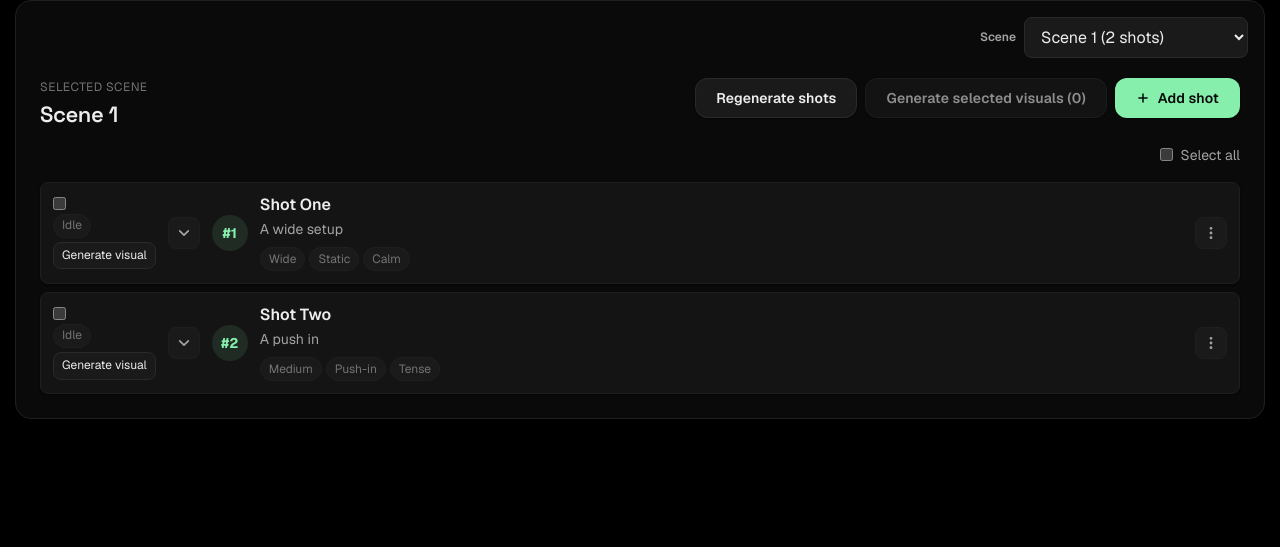
ShotsWorkspace › renders collapsed shot rows with compact tags and toggles expanded details
The width and height of the screenshot is (1280, 547).
Expected: the text "Framing" is not shown
Expected: the text "Movement" is not shown
Click the text "Shot Two" at (295, 315), box [260,304,331,325]
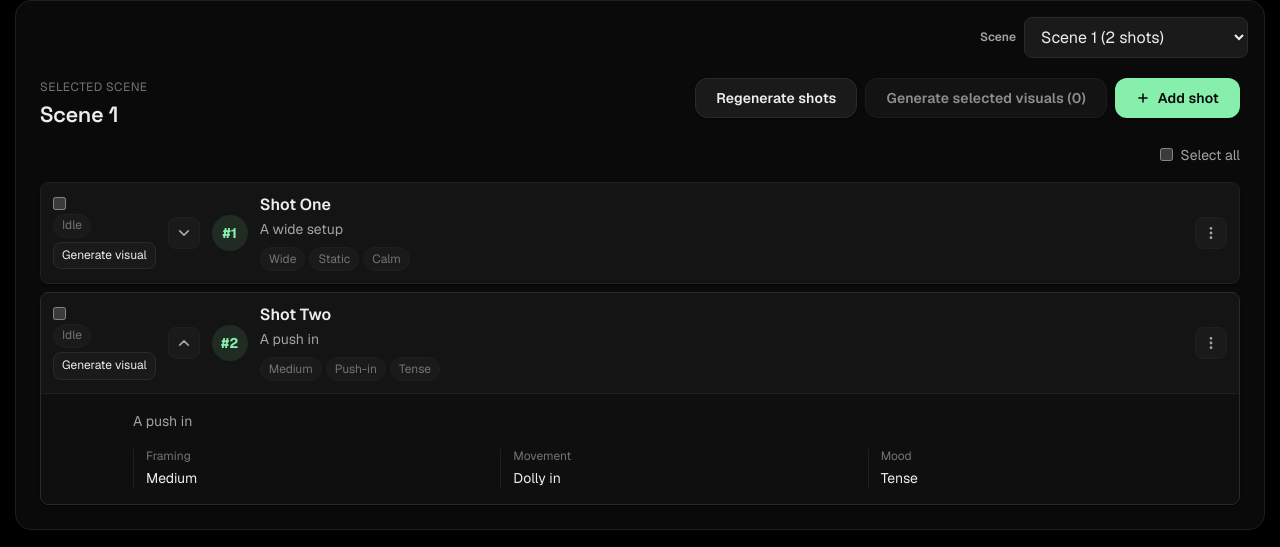
Expected: the button named "Show details for Shot Two" is expanded, [168,305,1183,381]
Expected: the text "Framing" is shown, [146,448,191,464]
Expected: the text "Movement" is shown, [513,448,571,464]
Click the text "Shot One" at (295, 204), box [260,194,331,215]
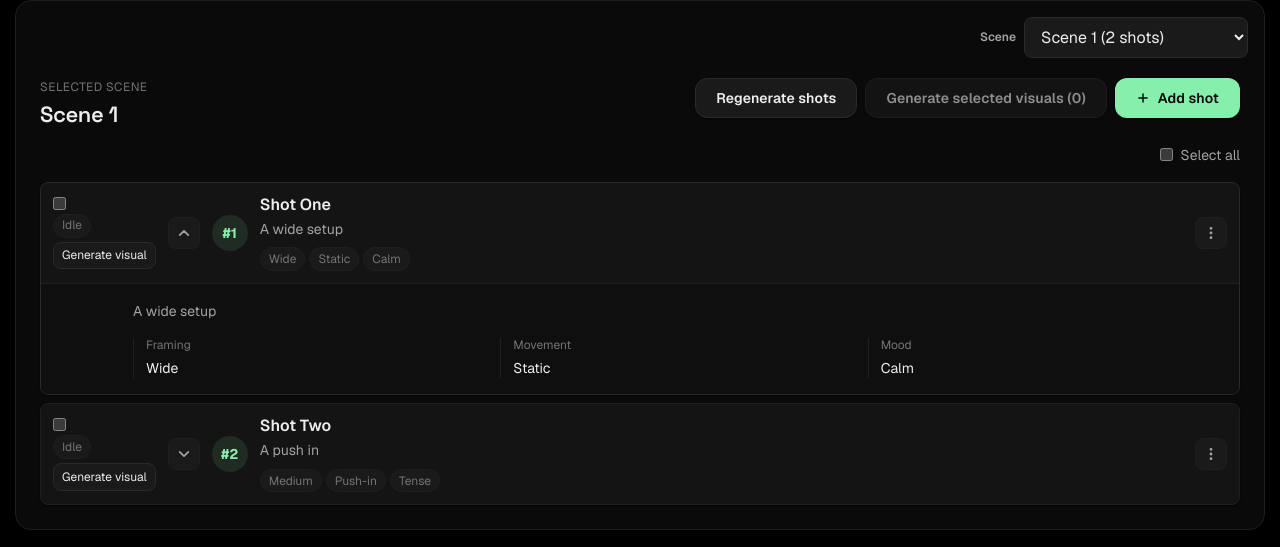
Expected: the button with aria-label "Hide details for Shot One" is expanded, [168,195,1183,271]
Expected: the button with aria-label "Show details for Shot Two" is collapsed, [168,416,1183,492]
Click the text "Shot One" at (295, 204), box [260,194,331,215]
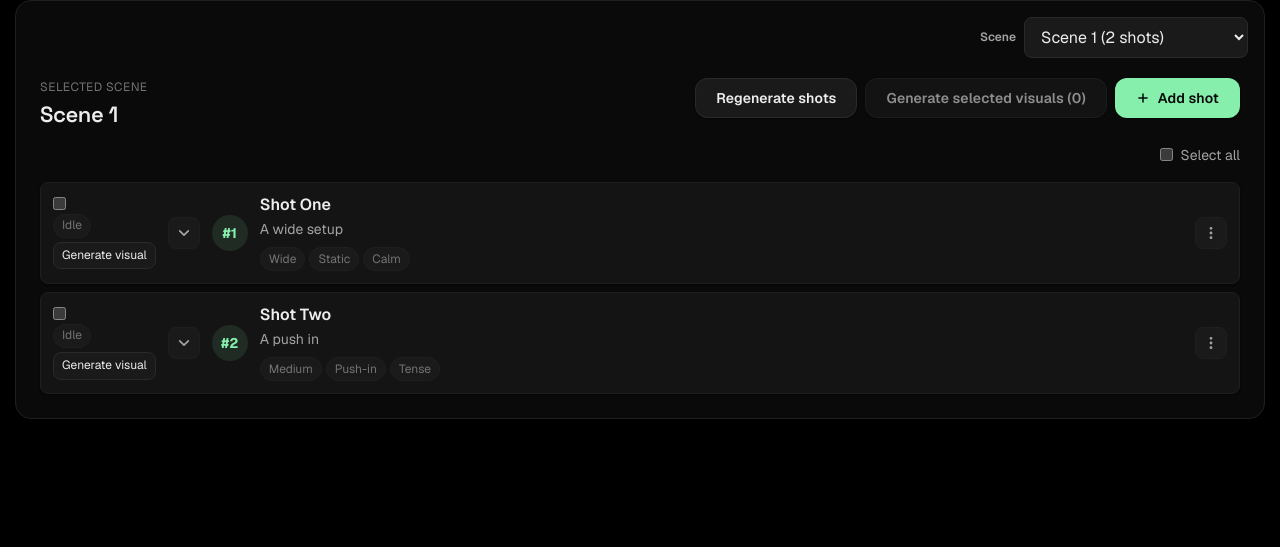
Expected: the button with aria-label "Show details for Shot One" is collapsed, [168,195,1183,271]
Click the text "Shot Two" at (295, 315), box [260,304,331,325]
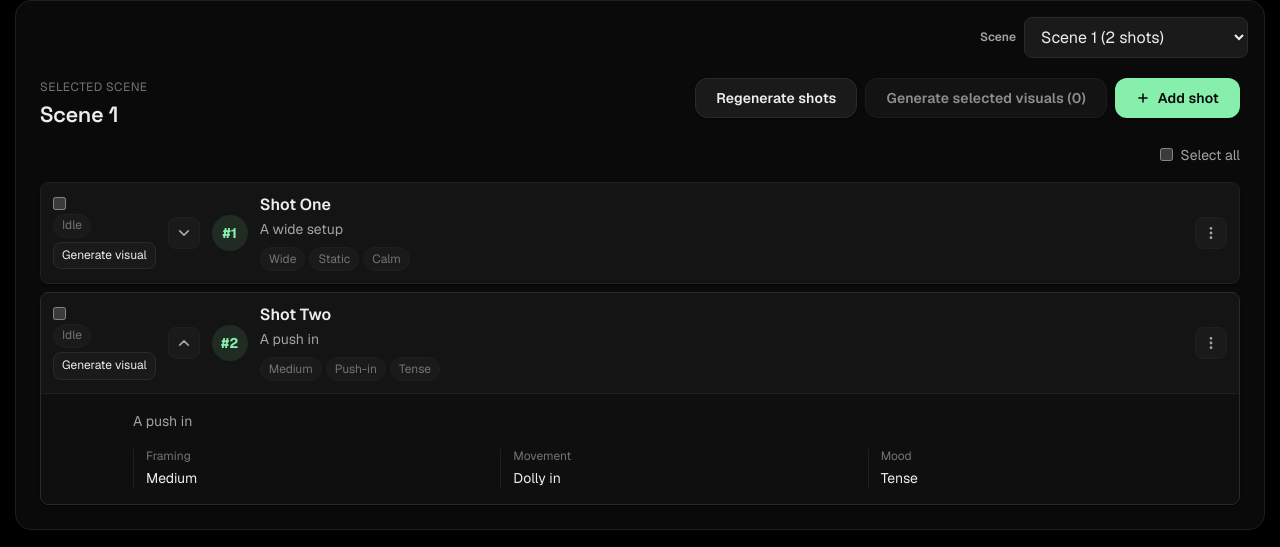
Click the button with aria-label "Hide details for Shot Two" at (184, 343), box [168,305,1183,381]
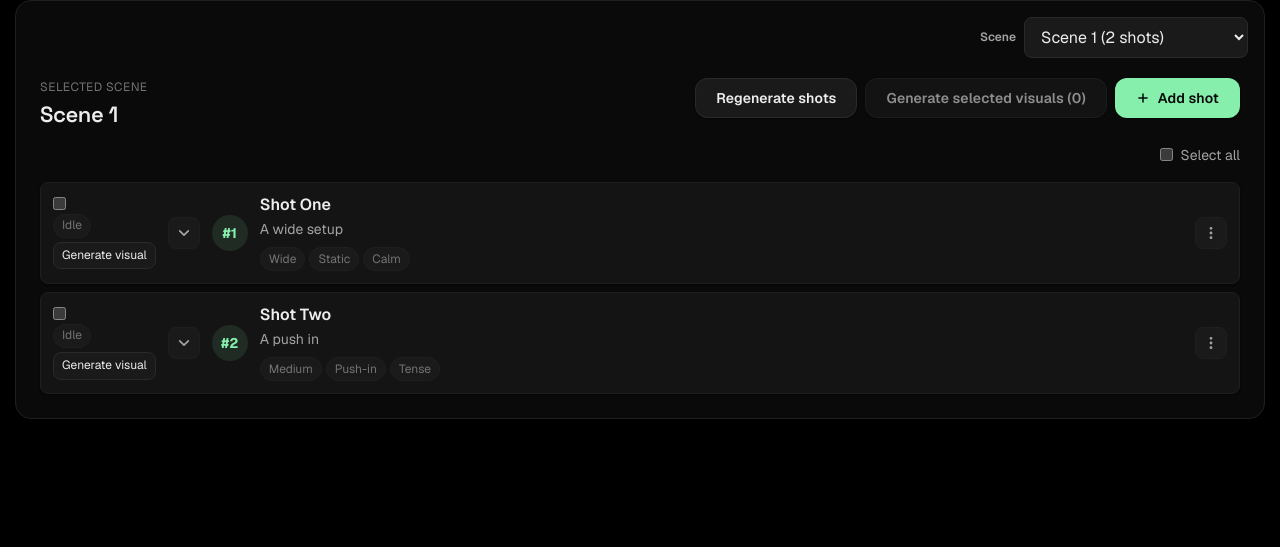
Expected: the button named "Hide details for Shot Two" is collapsed, [168,305,1183,381]
Expected: the text "Framing" is gone
Expected: the text "Movement" is gone
